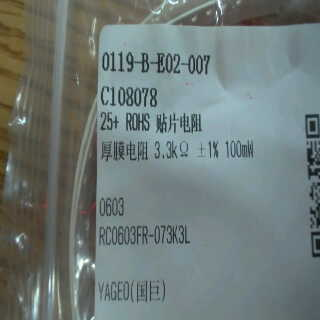3.3kO: (151, 140, 191, 165)
